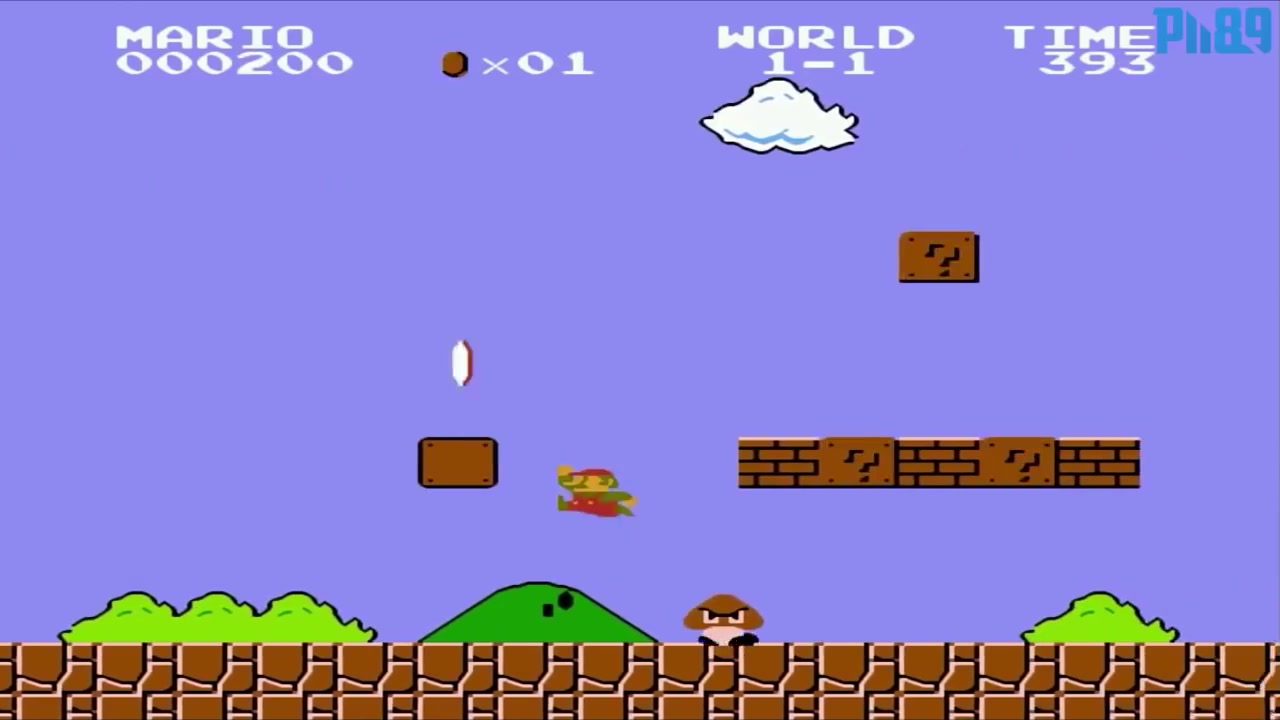mario: (543, 452, 642, 532)
